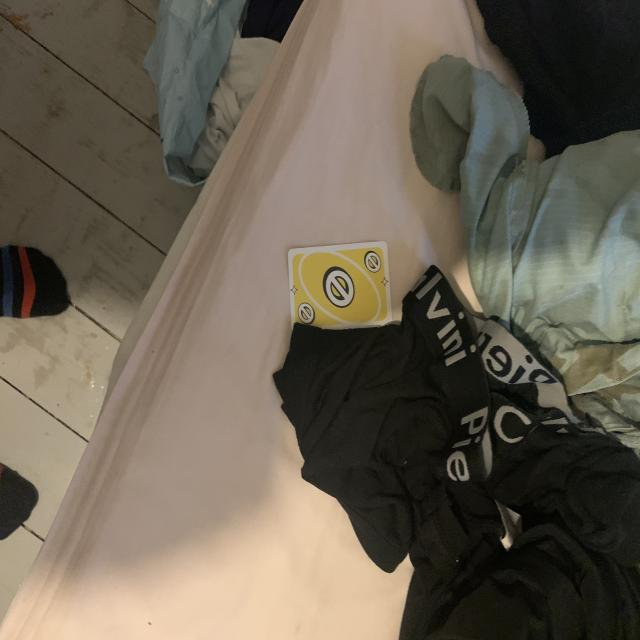lyellowskip-20: (359, 248, 385, 276)
